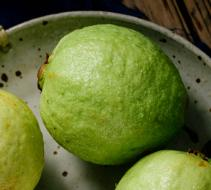guava_B: (38, 24, 190, 166)
